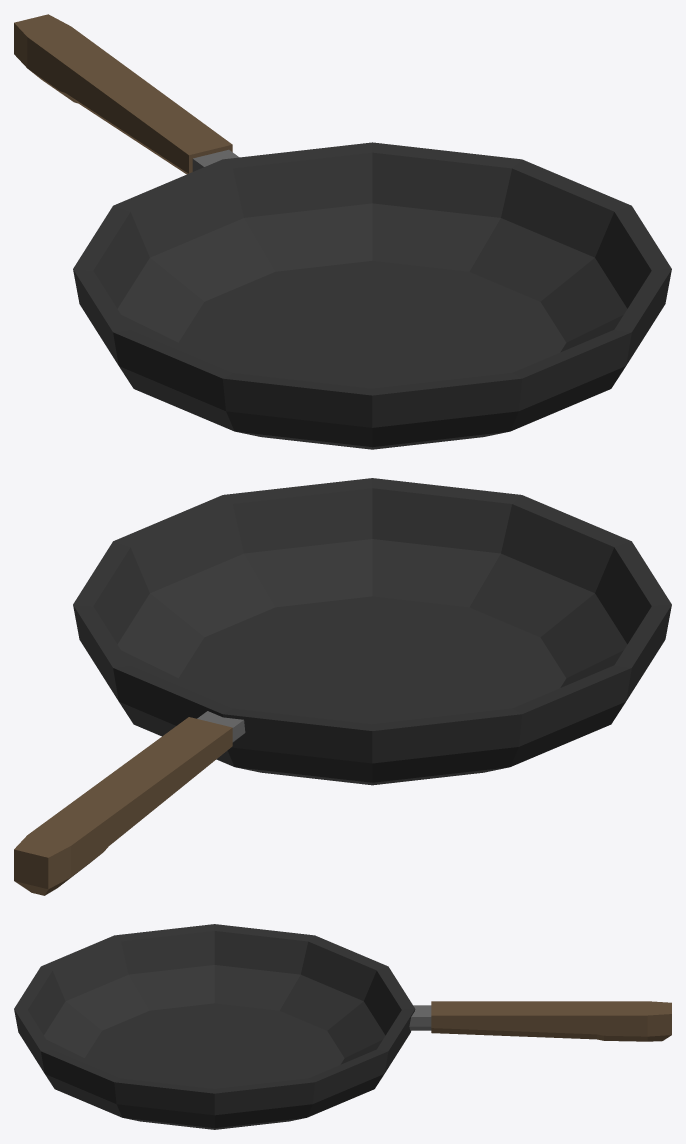
File: Pan.glb
3 renders of one model, top to bottom at view 1: azimuth 30°, elevation 25°; view 2: azimuth 150°, elevation 25°; view 3: azimuth 270°, elevation 25°, orthographic. The views are drawn at different scales.
Visible parts, largest first — view 1: Pan; view 2: Pan; view 3: Pan.
Part boxes in pixels (bbox=[...]): Pan: bbox=[14, 14, 671, 449]; Pan: bbox=[14, 478, 671, 895]; Pan: bbox=[14, 924, 671, 1129].
Bounding box in the file's own units: 0.4307 × 0.0855 × 0.7062.
